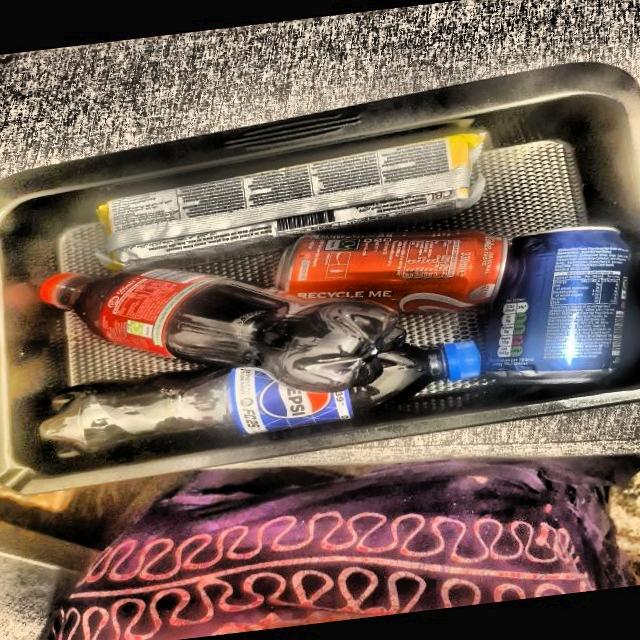coke-bottle: (38, 254, 382, 392)
coke-can: (288, 226, 516, 324)
lemon puff: (107, 128, 497, 262)
pepsi-bottle: (35, 340, 469, 452)
pepsi-can: (493, 225, 640, 382)
